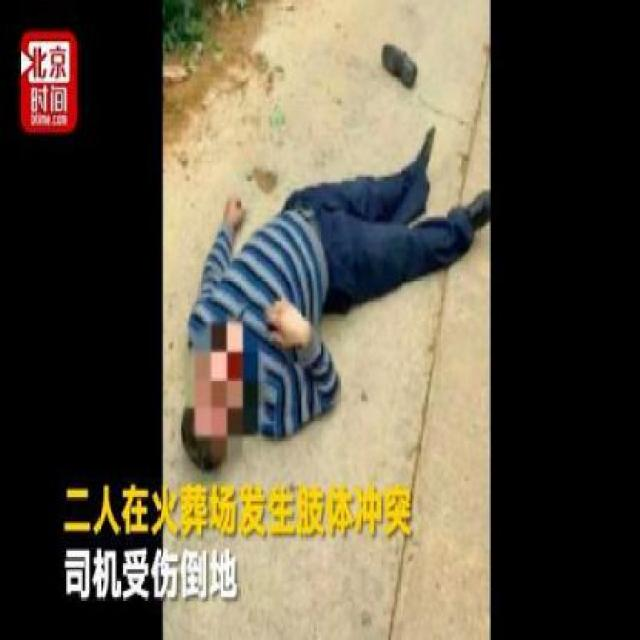fall: (174, 98, 491, 474)
